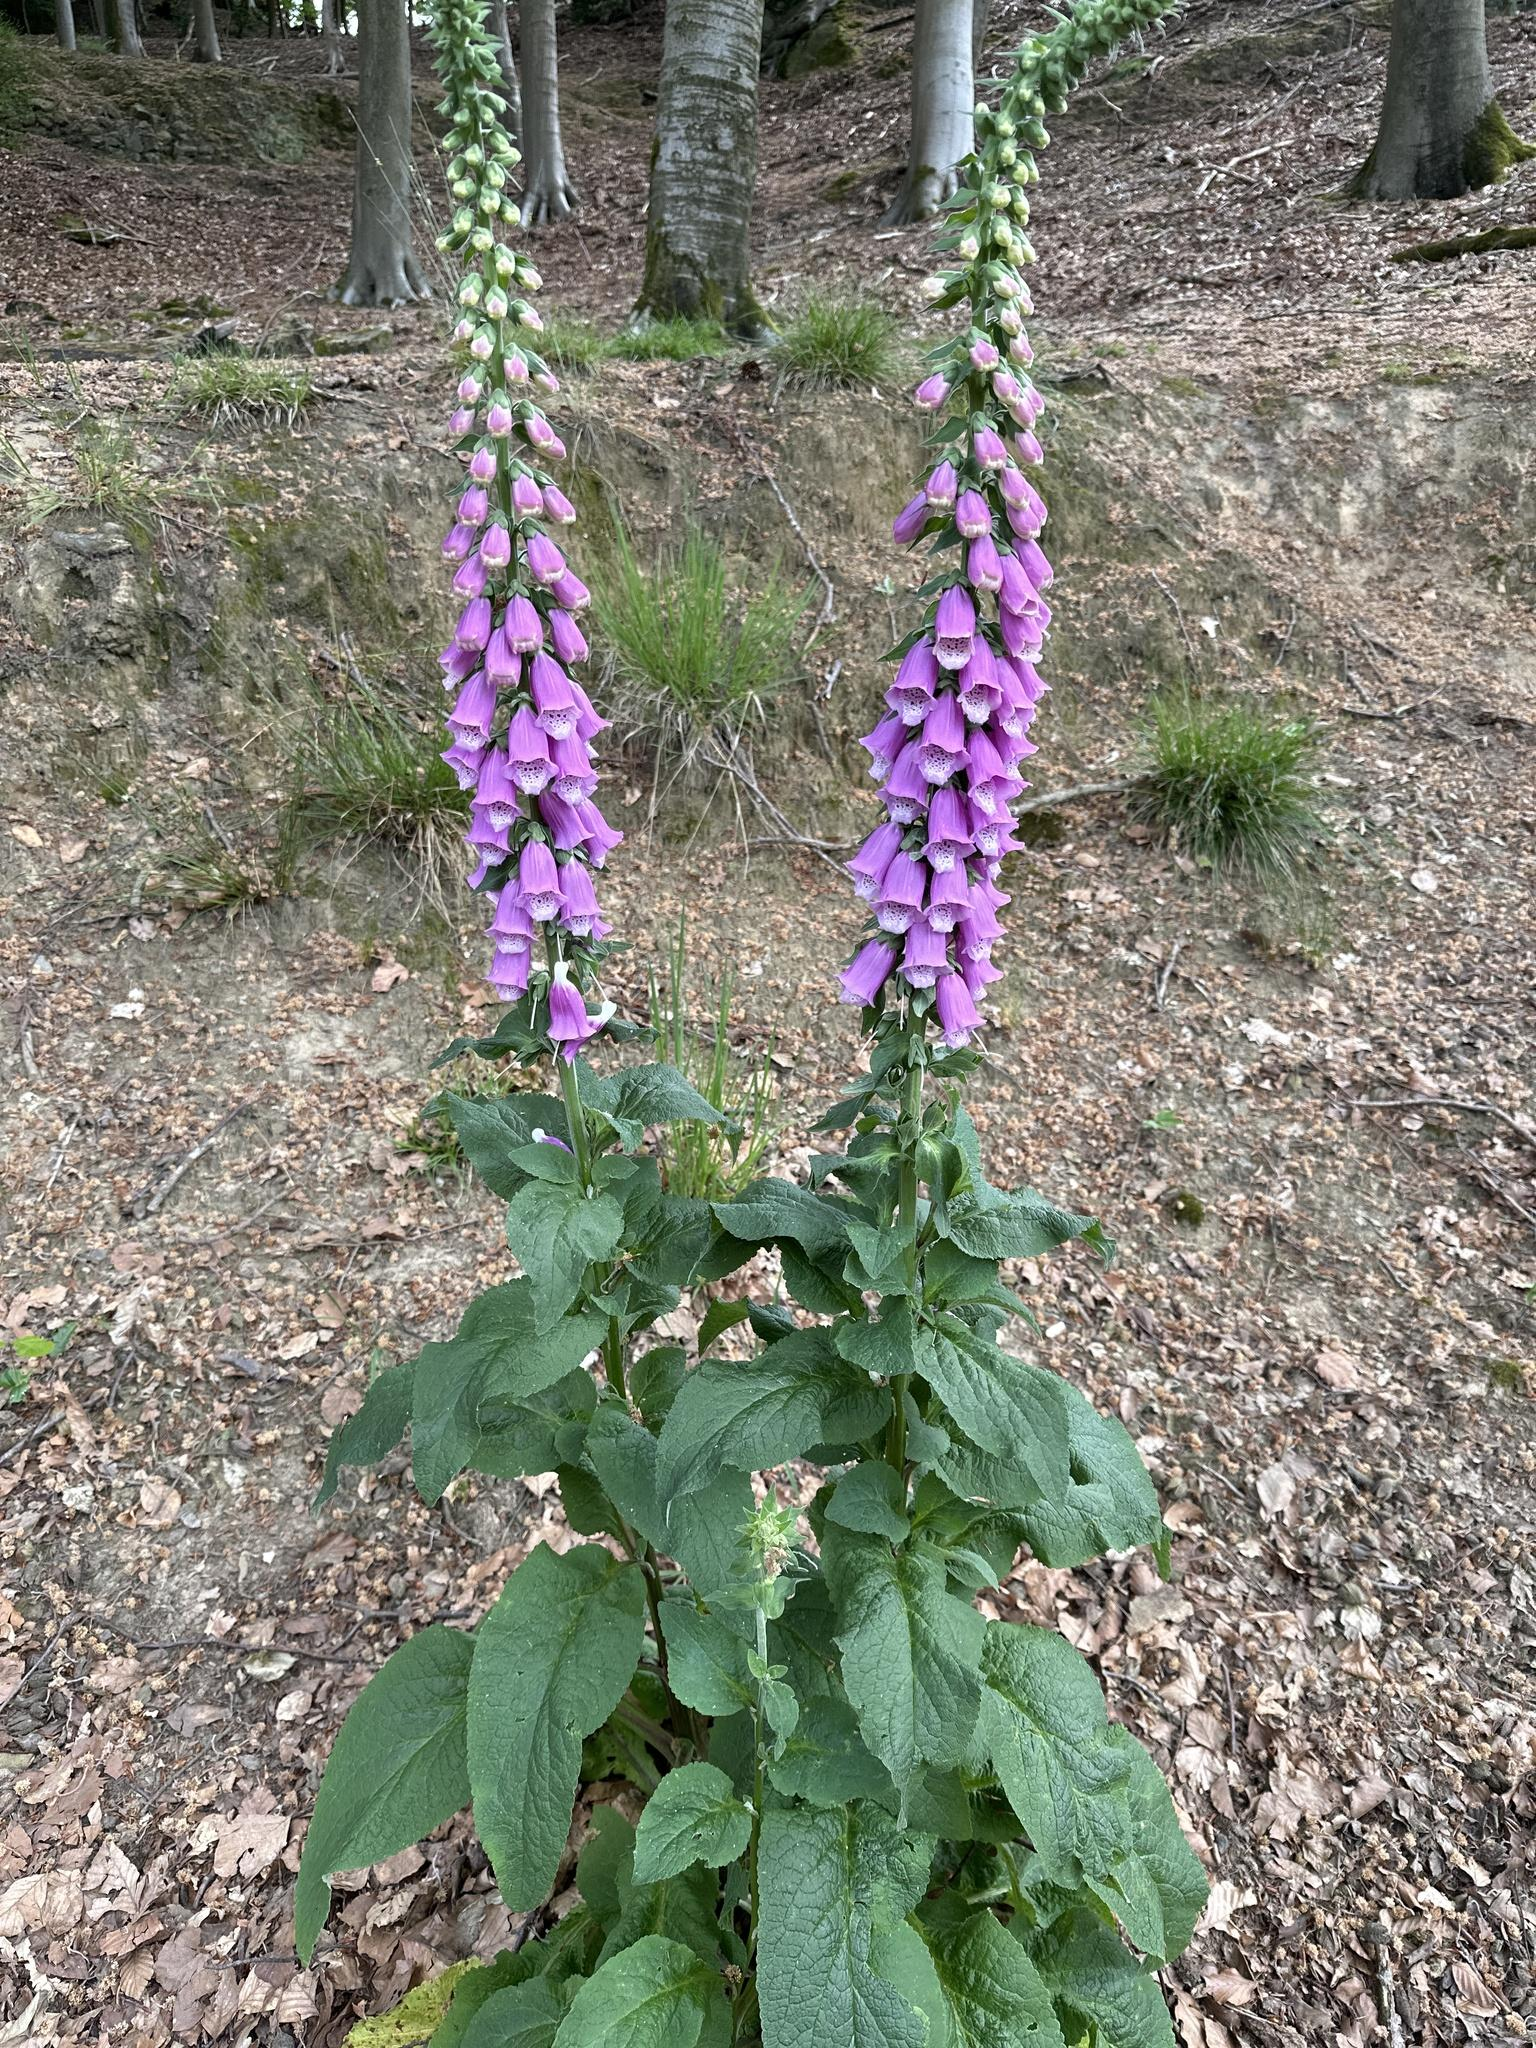Digitalis L: (741, 3, 1196, 1996), (395, 0, 716, 1906)
